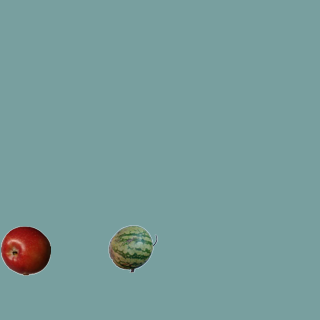Apple Braeburn: (0, 225, 50, 275)
Watermelon: (107, 223, 157, 273)
